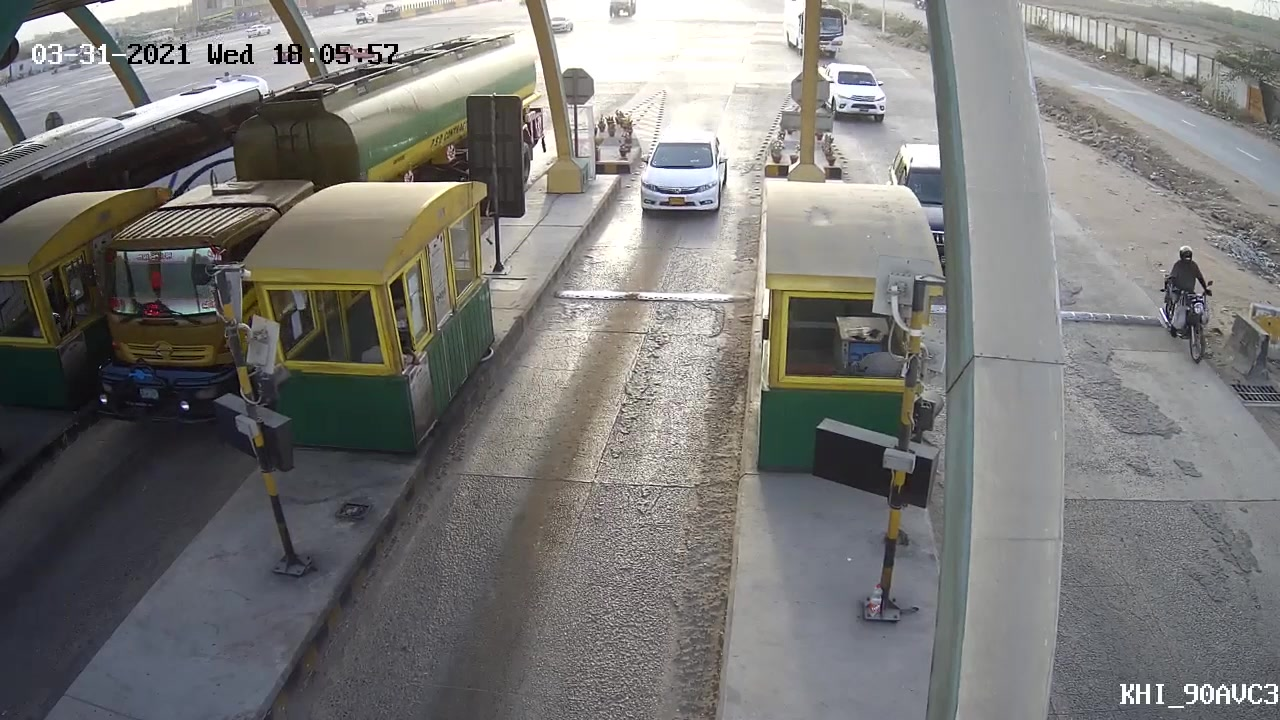F1: (628, 129, 736, 222)
